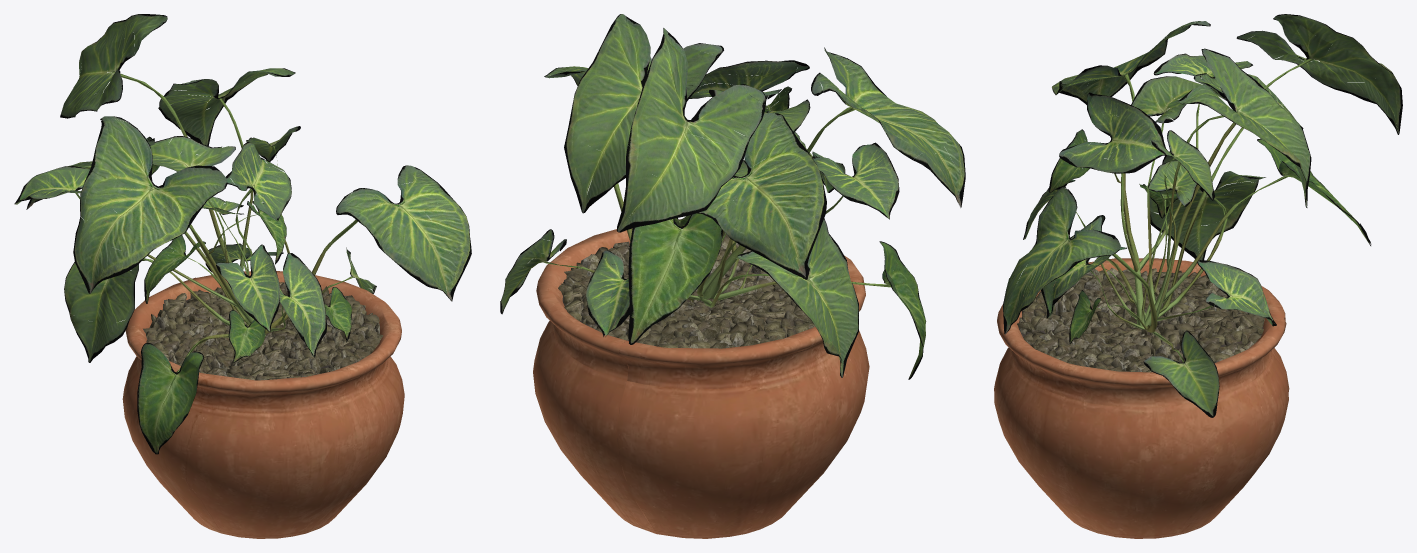
The model's file is potted_plant_02.glb.
The picture shows the model from 3 angles, left to right: view 1: azimuth 30°, elevation 25°; view 2: azimuth 150°, elevation 25°; view 3: azimuth 270°, elevation 25°; orthographic projection. The views are drawn at different scales.
Parts seen in each view (by area): view 1: potted_plant_02_leaves, potted_plant_02_pot, potted_plant_02_dirt; view 2: potted_plant_02_leaves, potted_plant_02_pot, potted_plant_02_dirt; view 3: potted_plant_02_leaves, potted_plant_02_pot, potted_plant_02_dirt.
Boxes of the visible parts, left/top/right/bottom form: potted_plant_02_leaves: left=14, top=14, right=471, bottom=454; potted_plant_02_pot: left=122, top=271, right=404, bottom=538; potted_plant_02_dirt: left=143, top=282, right=383, bottom=380; potted_plant_02_leaves: left=500, top=14, right=965, bottom=379; potted_plant_02_pot: left=533, top=219, right=869, bottom=538; potted_plant_02_dirt: left=558, top=232, right=828, bottom=348; potted_plant_02_leaves: left=1003, top=14, right=1402, bottom=417; potted_plant_02_pot: left=994, top=258, right=1289, bottom=538; potted_plant_02_dirt: left=1017, top=268, right=1264, bottom=372.
Bounding box in the file's own units: 0.7008 × 0.8416 × 0.657.
2 materials, 2 textured.
